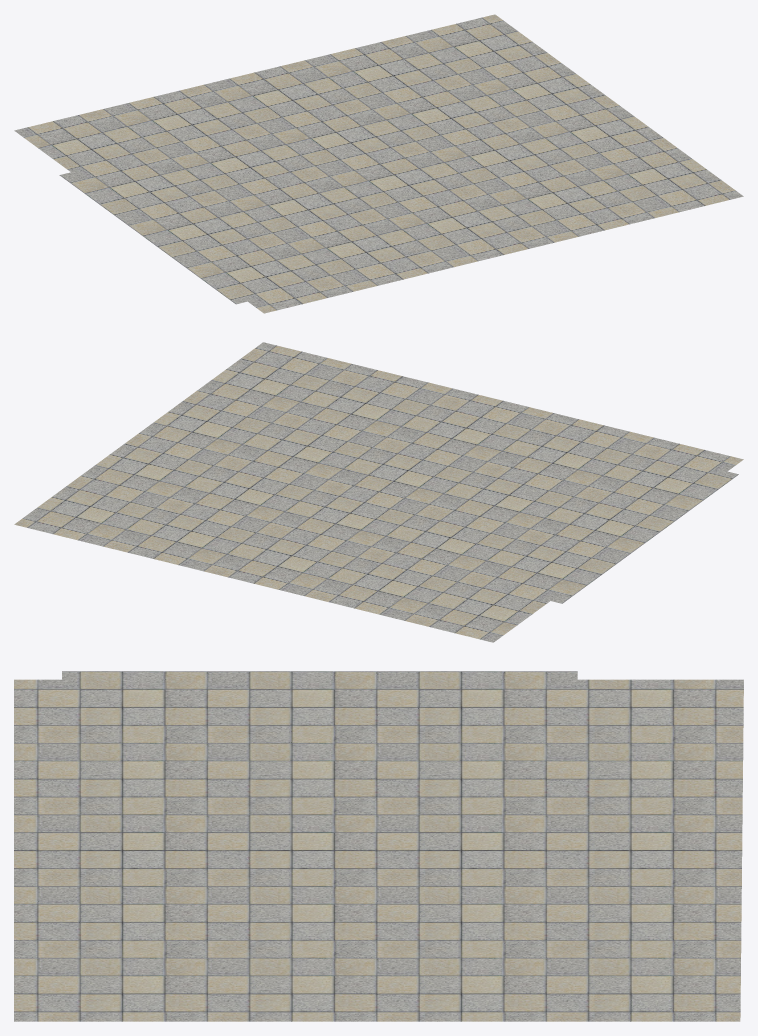
Rendered from floor.glb.
3 renders of one model, top to bottom at view 1: azimuth 30°, elevation 25°; view 2: azimuth 150°, elevation 25°; view 3: azimuth 270°, elevation 25°, orthographic. The views are drawn at different scales.
Visible parts, largest first — view 1: Tiles_Tiles_0.001; view 2: Tiles_Tiles_0.001; view 3: Tiles_Tiles_0.001.
Boxes of the visible parts, x1=… form: Tiles_Tiles_0.001: x1=14, y1=14, x2=743, y2=313; Tiles_Tiles_0.001: x1=14, y1=342, x2=743, y2=642; Tiles_Tiles_0.001: x1=14, y1=671, x2=743, y2=1021.
Bounding box in the file's own units: 11.6 × 3.09e-06 × 10.23.
1 material, 1 textured.
